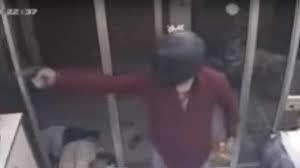weapon: (8, 64, 50, 89)
